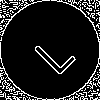L: (25, 25, 78, 78)
